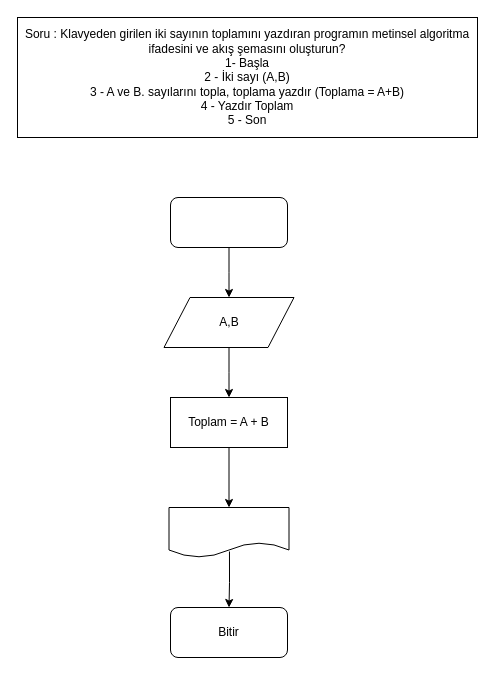
Some shapes in this 495 by 675 pixel diagram are drawn without their labels. The shapes that lost their labels are listed below. From the top down, each one's centre as x and y in pixels, then its label:
At pixel 229 222: "Başla".
At pixel 228 532: "Toplam".
